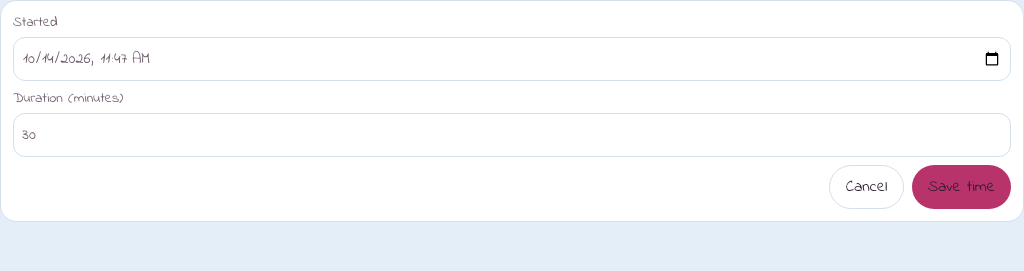
Test: refuses a duration of 0
This screenshot has width=1024, height=271.
Replace the text in the field labelled "Duration (minutes)" with "0" at (512, 135), box [13,113,1011,157]
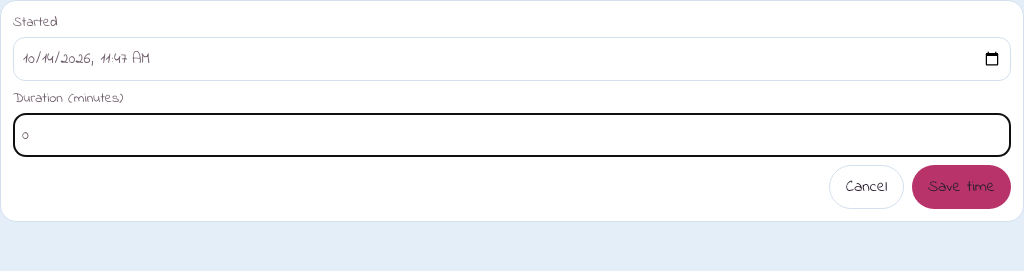
Click the button "Save time" at (962, 187), box [912,165,1011,209]
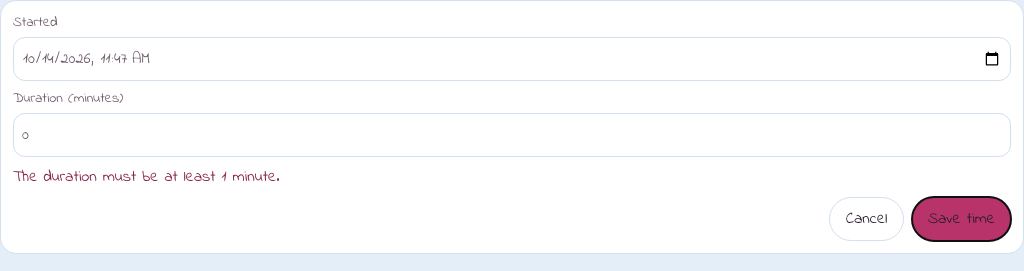
Expected: the message shows "at least 1 minute", [13,165,280,189]
